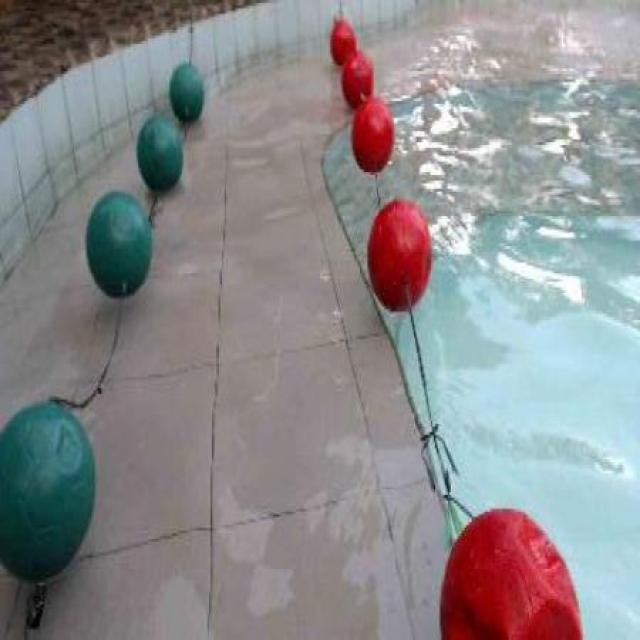buoy: (437, 505, 584, 638), (0, 397, 94, 581), (366, 198, 433, 316), (85, 188, 153, 298), (135, 114, 182, 188), (350, 94, 394, 173), (339, 48, 375, 106), (170, 63, 203, 124)
